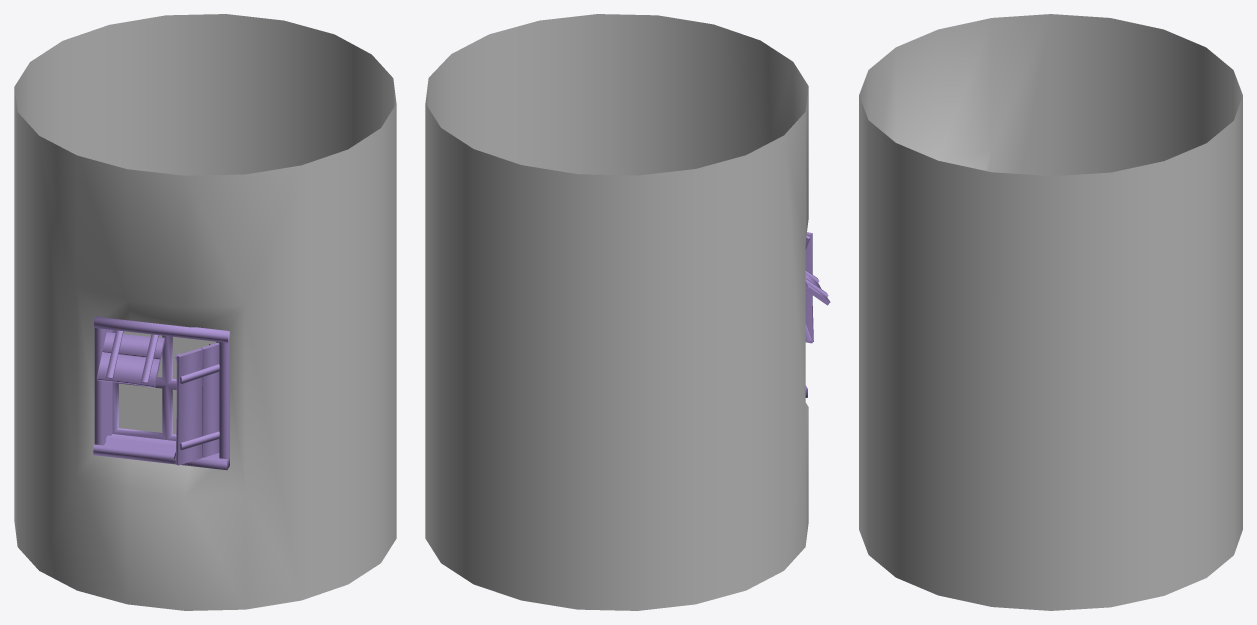
The model's file is tower_c_segment_d_outside.fbx.
The picture shows the model from 3 angles, left to right: view 1: azimuth 30°, elevation 25°; view 2: azimuth 150°, elevation 25°; view 3: azimuth 270°, elevation 25°; orthographic projection.
Visible parts, largest first — view 1: Cylinder.043, Plane.099, Plane.102, Plane.100, Plane.101; view 2: Cylinder.043, Plane.102; view 3: Cylinder.043.
Part boxes in pixels (bbox=[...]): Cylinder.043: bbox=[14, 14, 396, 610]; Plane.099: bbox=[93, 316, 229, 470]; Plane.102: bbox=[173, 342, 219, 465]; Plane.100: bbox=[118, 331, 216, 434]; Plane.101: bbox=[96, 330, 165, 387]; Cylinder.043: bbox=[425, 14, 808, 610]; Plane.102: bbox=[805, 232, 813, 343]; Cylinder.043: bbox=[859, 14, 1242, 610].
Bounding box in the file's own units: 4 × 5 × 4.
